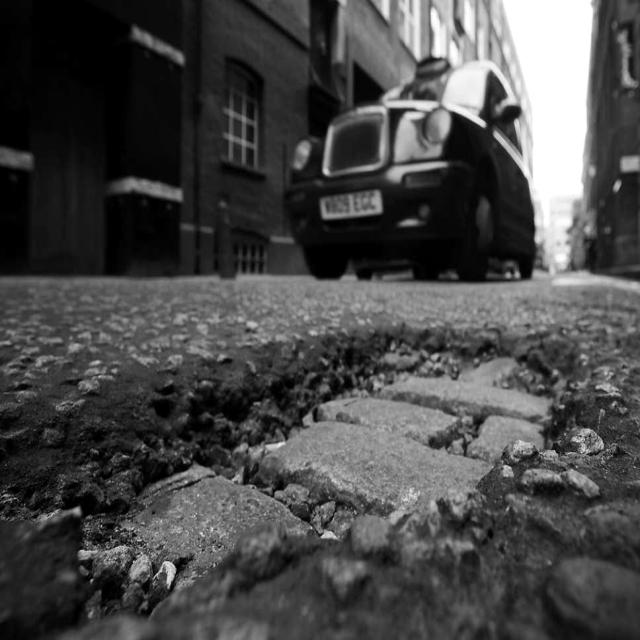pathole: (10, 276, 614, 626)
